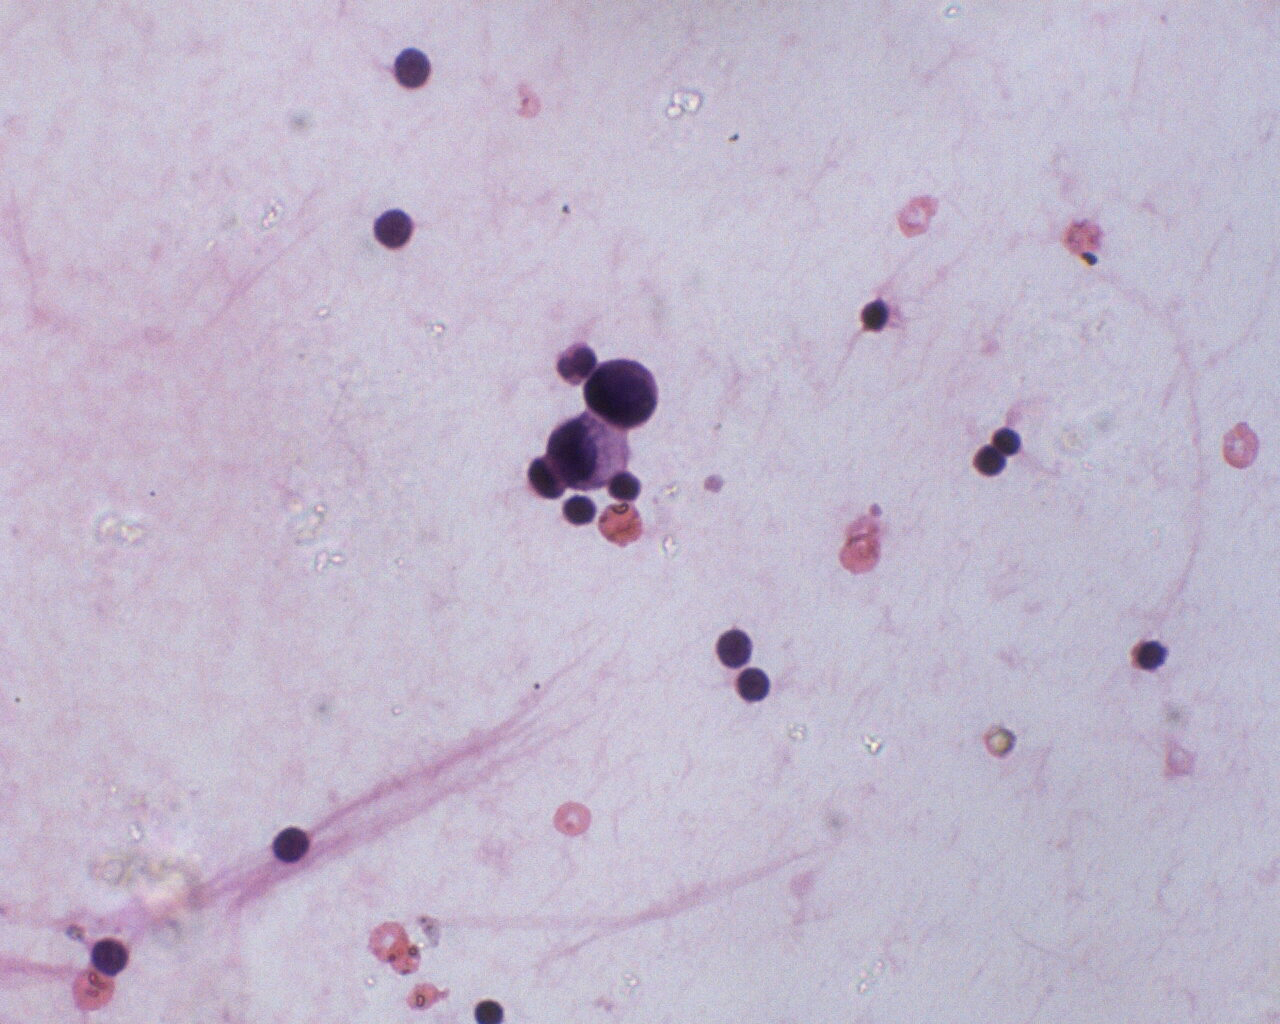ab: (539, 414, 628, 493), (587, 350, 664, 430)
normal: (270, 821, 322, 866), (709, 621, 755, 671), (374, 205, 419, 255), (89, 933, 132, 980), (732, 664, 773, 708), (970, 440, 1010, 480), (559, 492, 600, 531), (468, 996, 510, 1024)
